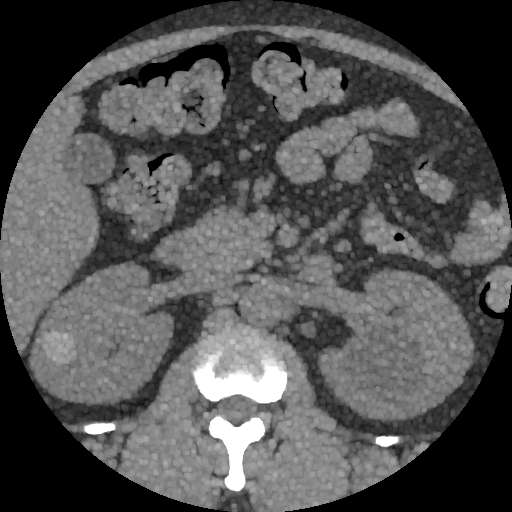Lesion: (36, 327, 80, 370)
